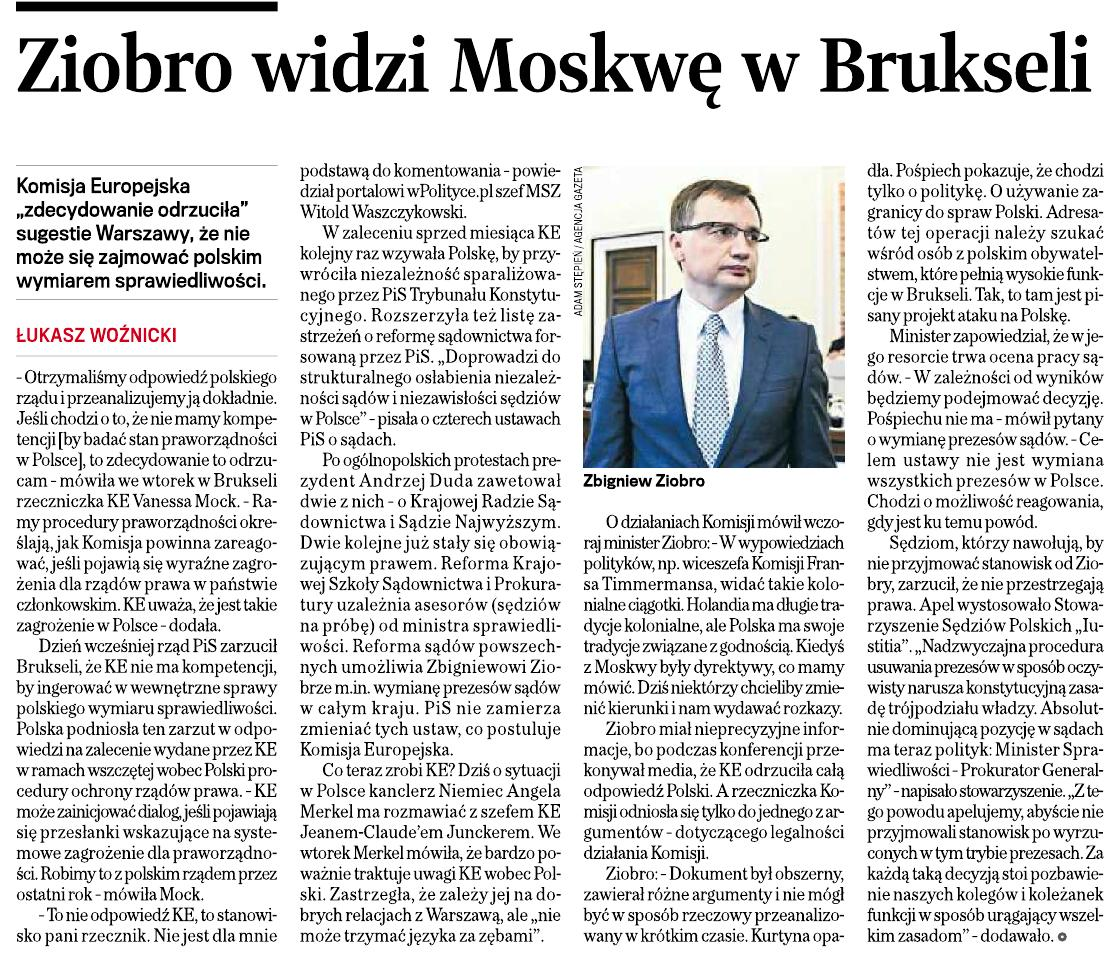author: (7, 313, 196, 352)
body: (293, 155, 567, 956), (855, 153, 1104, 952), (6, 363, 284, 952), (576, 507, 851, 956)
caption: (579, 469, 715, 494)
image: (576, 157, 847, 469)
lead: (10, 169, 272, 295)
title: (13, 19, 1100, 113)
